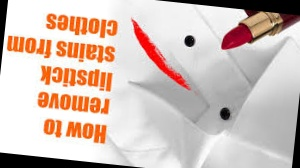lipstick: (123, 19, 169, 65), (156, 56, 196, 92)
